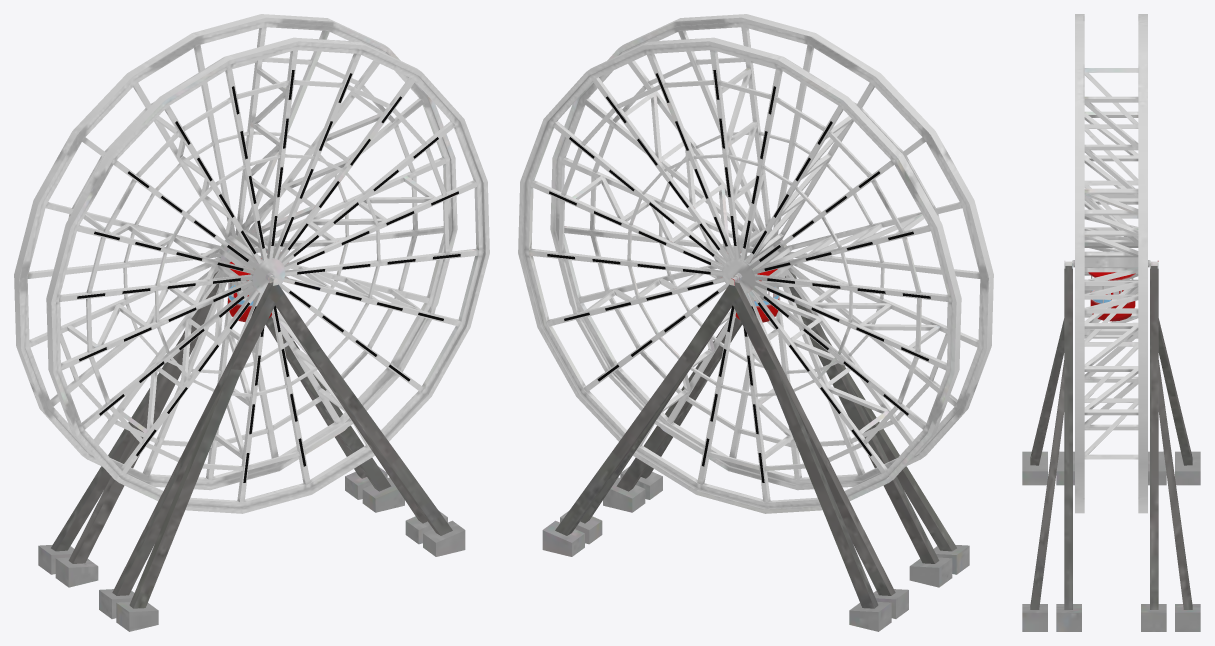
Rendered from cst_ferris.glb.
3 views of the same model, side by side, from view 1: azimuth 30°, elevation 25°; view 2: azimuth 150°, elevation 25°; view 3: azimuth 270°, elevation 25° (orthographic). The views are drawn at different scales.
Visible parts, largest first — view 1: wheel, base; view 2: wheel, base; view 3: wheel, base, cabin.
Boxes of the visible parts, x1,y1,x2,y2 form: wheel: [14, 14, 489, 513]; base: [38, 271, 465, 631]; wheel: [518, 14, 993, 513]; base: [542, 271, 969, 631]; wheel: [1065, 14, 1157, 513]; base: [1022, 260, 1200, 631]; cabin: [1072, 251, 1150, 321].
Size of the model in its own units: 35.53 by 40.51 by 12.77.
1 material, 1 textured.
